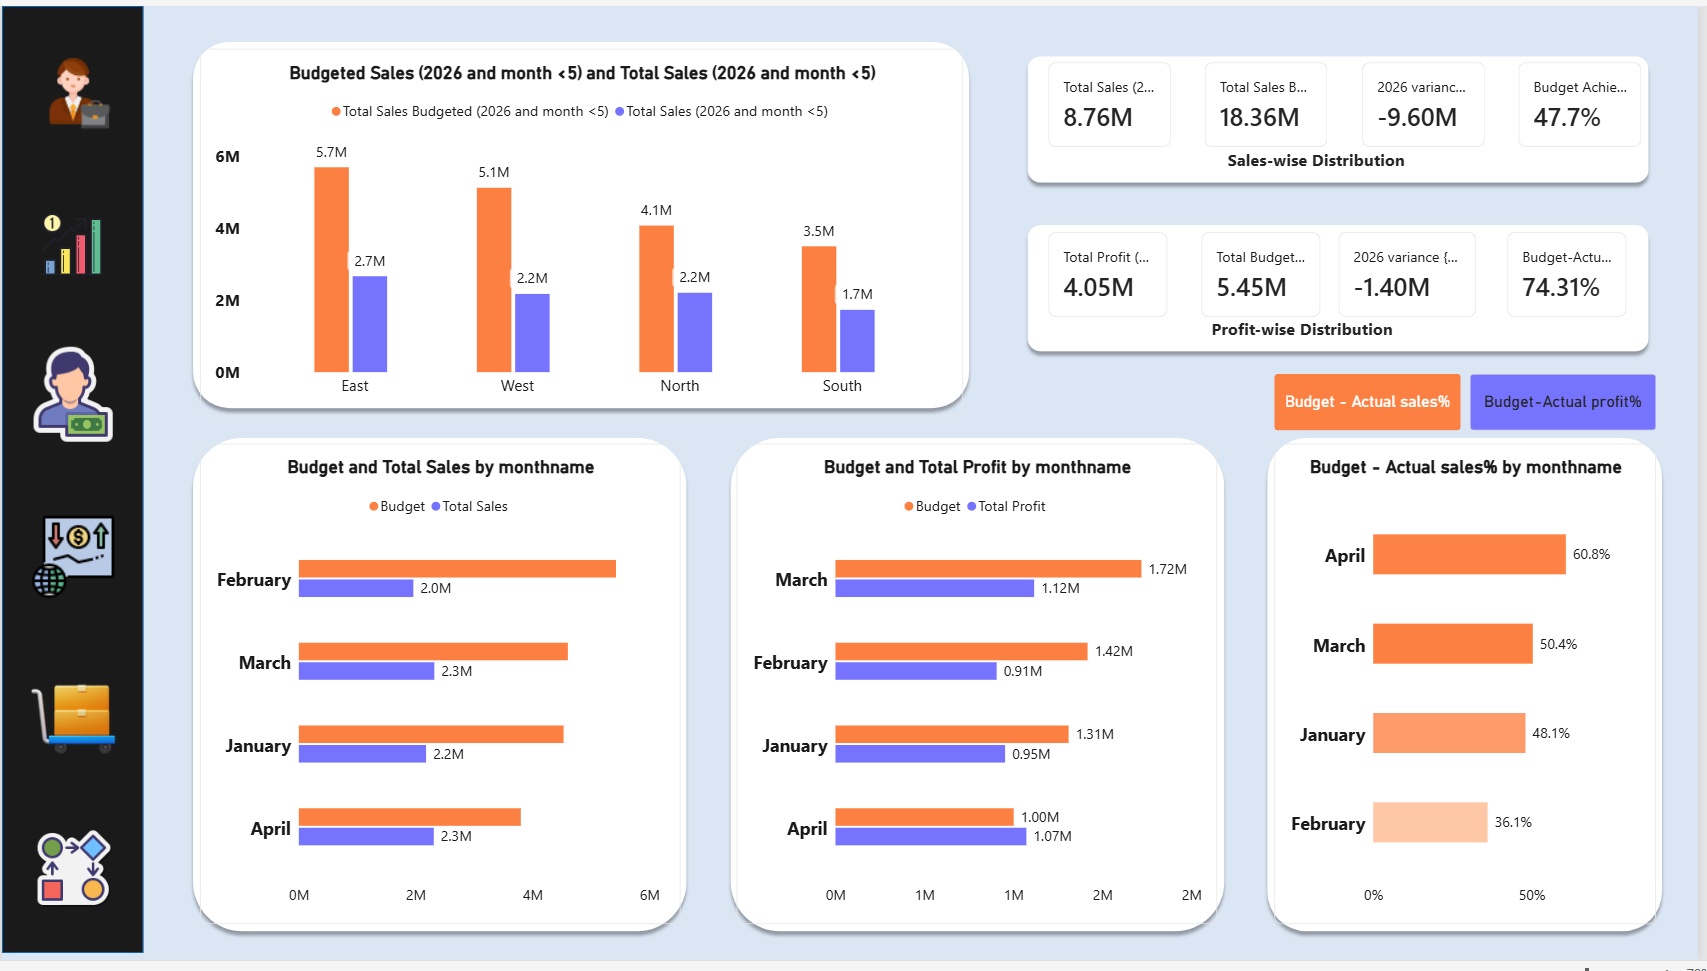

The page's visual inventory and layout, read from the dashboard file:
{"tool":"powerbi","page":{"name":"Budget vs Actual","canvas":[1920,1080],"ordinal":2},"visuals":[{"type":"shape","box":[1152,48,720,160],"z":0},{"type":"shape","box":[1152,240,720,160],"z":1000},{"type":"shape","box":[208,32,896,432],"z":2000},{"type":"shape","box":[208,480,576,576],"z":3000},{"type":"clusteredBarChart","fields":{"Category":["month.monthname"],"Y":["Sum(Fact_Budget.BudgetSales)","_Measure.Total Sales"]},"box":[224,496,544,544],"z":4000},{"type":"shape","box":[0,0,160,1072],"z":5000},{"type":"image","box":[16,224,128,96],"z":6000},{"type":"image","box":[16,576,128,96],"z":7000},{"type":"image","box":[16,384,128,112],"z":8000},{"type":"image","box":[16,48,128,96],"z":9000},{"type":"image","box":[16,752,128,112],"z":10000},{"type":"image","box":[16,928,128,96],"z":11000},{"type":"shape","box":[816,480,576,576],"z":12000},{"type":"cardVisual","fields":{"Data":["_Measure.Budget Achievement %"]},"box":[1716.8,64,139.2,96],"z":13000,"group":"g1"},{"type":"cardVisual","fields":{"Data":["_Measure.Budget-Actual profit%"]},"box":[1704.1,256,135.9,96],"z":13000,"group":"g2"},{"type":"clusteredBarChart","fields":{"Category":["month.monthname"],"Y":["Sum(Fact_Budget.BudgetProfit)","_Measure.Total Profit"]},"box":[832,496,544,544],"z":13000},{"type":"cardVisual","fields":{"Data":["_Measure.Total Sales (2026 and month <5)"]},"box":[1184,64,139.2,96],"z":14000,"group":"g1"},{"type":"cardVisual","fields":{"Data":["_Measure.Total Profit (2026 and month <5)"]},"box":[1184,256,135.9,96],"z":14000,"group":"g2"},{"type":"shape","box":[1424,480,464,576],"z":14000},{"type":"cardVisual","fields":{"Data":["_Measure.Total Sales Budgeted (2026 and month <5)"]},"box":[1361.6,64,139.2,96],"z":15000,"group":"g1"},{"type":"cardVisual","fields":{"Data":["_Measure.Total Budgeted Profit (2026 and month <5)"]},"box":[1357.4,256,135.9,96],"z":15000,"group":"g2"},{"type":"advancedSlicerVisual","fields":{"Values":["Sales and Profit Achievement.Sales and Profit Achievement"]},"box":[1440,416,432,64],"z":15000},{"type":"cardVisual","fields":{"Data":["_Measure.2026 variance {Profit}"]},"box":[1539.2,64,139.2,96],"z":16000,"group":"g1"},{"type":"cardVisual","fields":{"Data":["_Measure.2026 variance {profit}"]},"box":[1512,256,156.2,96],"z":16000,"group":"g2"},{"type":"clusteredBarChart","fields":{"Category":["month.monthname"],"Y":["_Measure.Budget Achievement %"]},"box":[1440,496,432,544],"z":16000},{"type":"lineClusteredColumnComboChart","title":" Budgeted Sales (2026 and month <5) and Total Sales (2026 and month <5)","fields":{"Category":["Dim_Region.Region"],"Y":["_Measure.Total Sales Budgeted (2026 and month <5)","_Measure.Total Sales (2026 and month <5)"]},"box":[224,48,864,416],"z":17000},{"type":"group","id":"g1","title":"Group 1","box":[1184,64,672,96],"z":18000},{"type":"group","id":"g2","title":"Group 1","box":[1184,256,656,96],"z":19000},{"type":"textbox","box":[1280,352,384,32],"z":20000},{"type":"textbox","box":[1280,160,416,32],"z":21000}]}

Visuals, with their boxes on the page's 1920x1080 design canvas (x1, y1, x2, y2). These are canvas units, not pixel positions in the 1707x971 screenshot, which may show the page scaled, cropped or inside an application window:
shape: rect(1152, 48, 1872, 208)
shape: rect(1152, 240, 1872, 400)
shape: rect(208, 32, 1104, 464)
shape: rect(208, 480, 784, 1056)
clusteredBarChart - month.monthname x Sum(Fact_Budget.BudgetSales): rect(224, 496, 768, 1040)
shape: rect(0, 0, 160, 1072)
image: rect(16, 224, 144, 320)
image: rect(16, 576, 144, 672)
image: rect(16, 384, 144, 496)
image: rect(16, 48, 144, 144)
image: rect(16, 752, 144, 864)
image: rect(16, 928, 144, 1024)
shape: rect(816, 480, 1392, 1056)
cardVisual - _Measure.Budget Achievement %: rect(1717, 64, 1856, 160)
cardVisual - _Measure.Budget-Actual profit%: rect(1704, 256, 1840, 352)
clusteredBarChart - month.monthname x Sum(Fact_Budget.BudgetProfit): rect(832, 496, 1376, 1040)
cardVisual - _Measure.Total Sales (2026 and month <5): rect(1184, 64, 1323, 160)
cardVisual - _Measure.Total Profit (2026 and month <5): rect(1184, 256, 1320, 352)
shape: rect(1424, 480, 1888, 1056)
cardVisual - _Measure.Total Sales Budgeted (2026 and month <5): rect(1362, 64, 1501, 160)
cardVisual - _Measure.Total Budgeted Profit (2026 and month <5): rect(1357, 256, 1493, 352)
advancedSlicerVisual - Sales and Profit Achievement.Sales and Profit Achievement: rect(1440, 416, 1872, 480)
cardVisual - _Measure.2026 variance {Profit}: rect(1539, 64, 1678, 160)
cardVisual - _Measure.2026 variance {profit}: rect(1512, 256, 1668, 352)
clusteredBarChart - month.monthname x _Measure.Budget Achievement %: rect(1440, 496, 1872, 1040)
" Budgeted Sales (2026 and month <5) and Total Sales (2026 and month <5)" lineClusteredColumnComboChart: rect(224, 48, 1088, 464)
"Group 1" group: rect(1184, 64, 1856, 160)
"Group 1" group: rect(1184, 256, 1840, 352)
textbox: rect(1280, 352, 1664, 384)
textbox: rect(1280, 160, 1696, 192)
